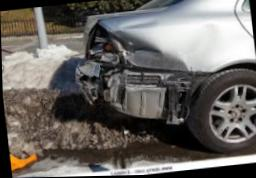Bumper: (75, 57, 212, 125)
Fender: (98, 3, 211, 73)
Light: (84, 21, 123, 64)
